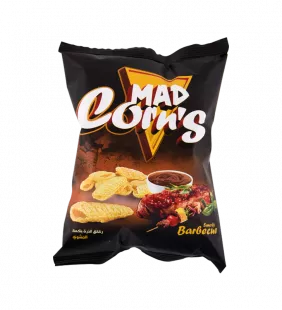MAD: (49, 32, 232, 280)
